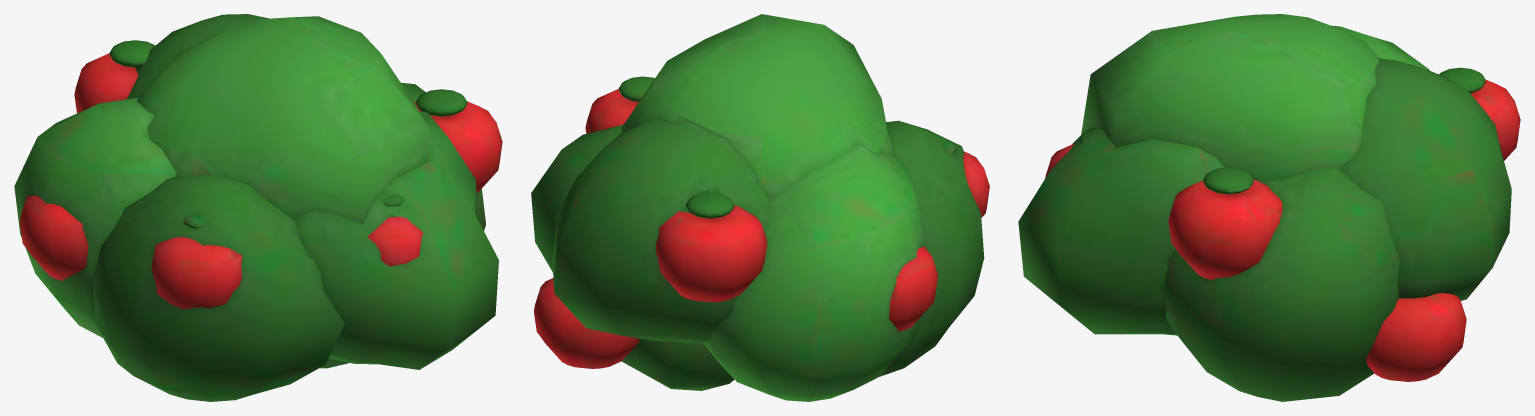
The model's file is crop_cherry_tomato.glb.
3 views of the same model, side by side, from view 1: azimuth 30°, elevation 25°; view 2: azimuth 150°, elevation 25°; view 3: azimuth 270°, elevation 25° (orthographic). The views are drawn at different scales.
Visible parts, largest first — view 1: crop_cherry_tomato, fruit; view 2: crop_cherry_tomato, fruit; view 3: crop_cherry_tomato, fruit.
Boxes of the visible parts, left/top/right/bottom form: crop_cherry_tomato: left=14, top=14, right=498, bottom=401; fruit: left=19, top=53, right=502, bottom=309; crop_cherry_tomato: left=531, top=14, right=984, bottom=401; fruit: left=534, top=88, right=989, bottom=368; crop_cherry_tomato: left=1018, top=14, right=1511, bottom=401; fruit: left=1045, top=80, right=1520, bottom=381.
Size of the model in its own units: 0.2659 by 0.2091 by 0.275.
1 material, 1 textured.
